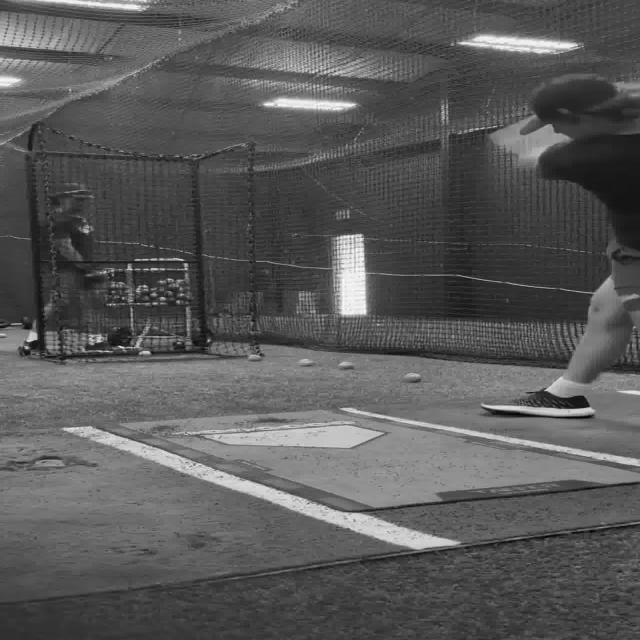base: (196, 425, 387, 452)
baseball: (401, 372, 421, 382), (336, 361, 354, 369), (297, 358, 313, 366), (247, 354, 262, 361), (138, 351, 151, 356)
baseball_glove: (518, 72, 630, 135)
shoe: (479, 388, 595, 418), (20, 339, 42, 354), (85, 342, 113, 352)
